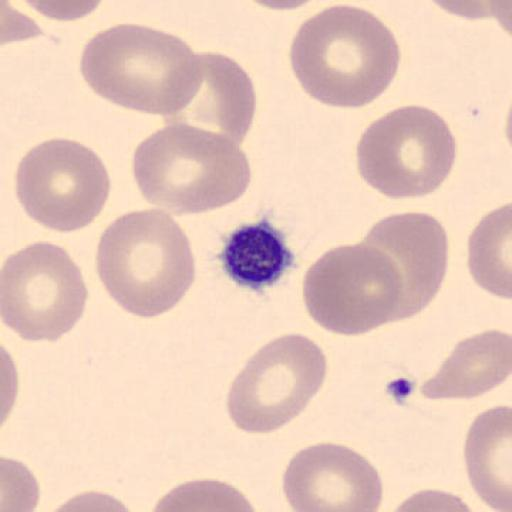Platelet: (216, 216, 299, 292)
RBC: (288, 2, 402, 111), (78, 22, 204, 118), (130, 119, 253, 217), (94, 206, 196, 320), (224, 331, 328, 436), (355, 210, 450, 322), (356, 103, 458, 202), (300, 242, 404, 338), (162, 50, 258, 152), (14, 136, 112, 235), (2, 239, 90, 345), (282, 440, 386, 512), (420, 327, 512, 402), (462, 403, 512, 512), (466, 200, 512, 304), (146, 476, 260, 512), (39, 488, 142, 512), (387, 486, 482, 512), (422, 0, 512, 27), (1, 455, 41, 512), (15, 0, 110, 23), (2, 2, 44, 45), (236, 0, 356, 13), (1, 343, 20, 423), (424, 0, 495, 21), (237, 0, 324, 11), (489, 0, 512, 39)
